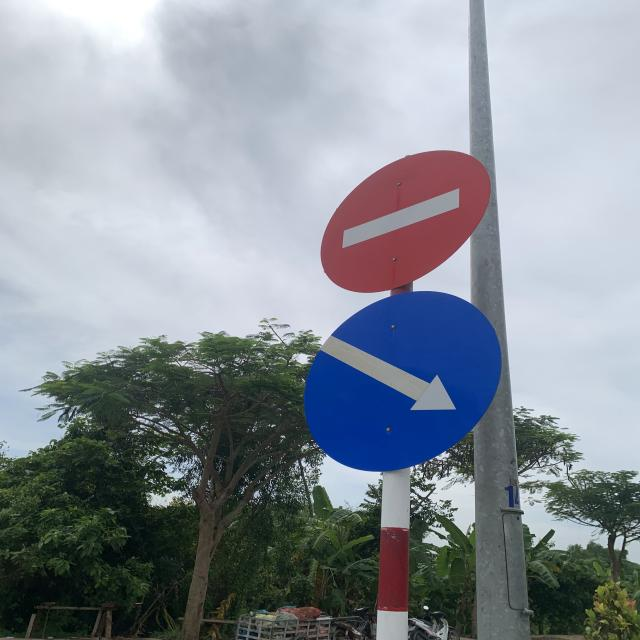Cam_Di_Nguoc_Chieu: (321, 150, 493, 294)
Chi_Huong_Di_Phai: (303, 291, 506, 473)
